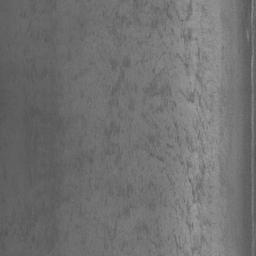Silk spot: (0, 0, 223, 256), (20, 0, 57, 51), (80, 90, 97, 108)
